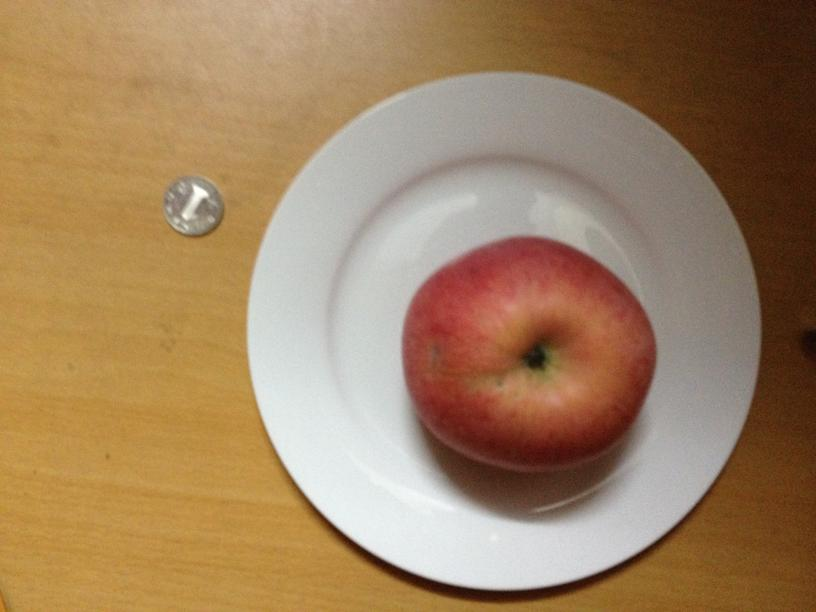apple: (401, 236, 656, 474)
coin: (158, 176, 223, 237)
